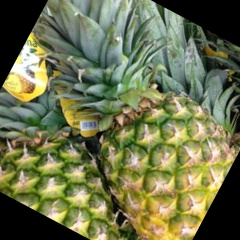Pineapple: (48, 18, 197, 216)
